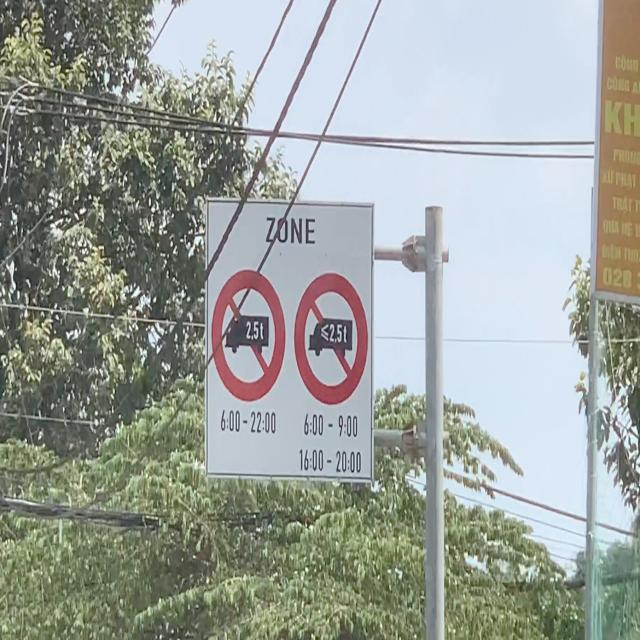Cam con lai: (211, 269, 286, 403), (294, 272, 368, 406)
